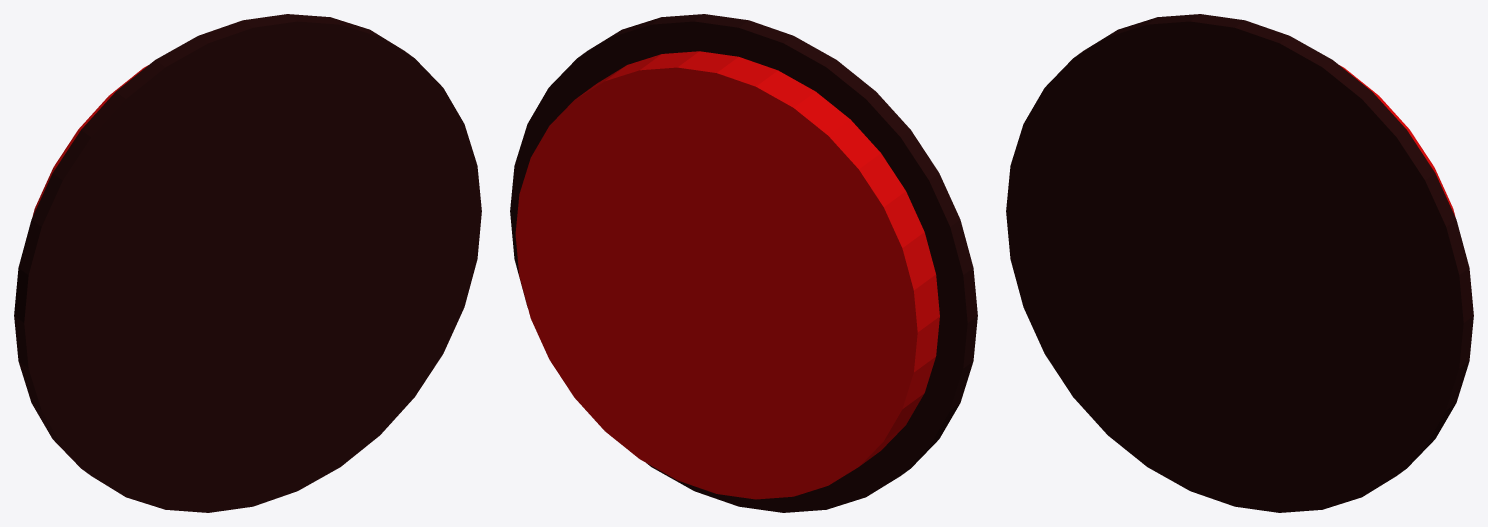
File: Button.obj
The picture shows the model from 3 angles, left to right: view 1: azimuth 30°, elevation 25°; view 2: azimuth 150°, elevation 25°; view 3: azimuth 330°, elevation 25°; orthographic projection.
Visible parts, largest first — view 1: Circle; view 2: Circle; view 3: Circle.
Part boxes in pixels (x1,y1,x2,y2): Circle: (14, 14, 481, 512); Circle: (510, 14, 977, 512); Circle: (1006, 14, 1473, 512).
Bounding box in the file's own units: 2.28 × 2.28 × 0.28.
